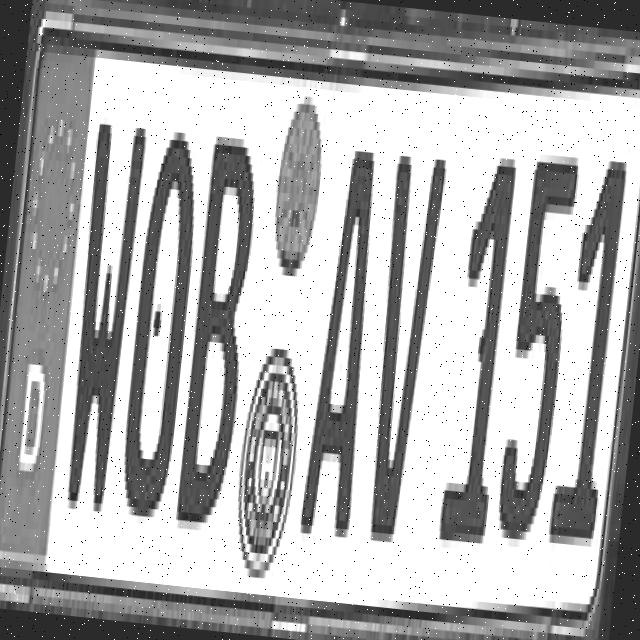Allemagne: (0, 22, 101, 562)
EU: (0, 0, 640, 640)
